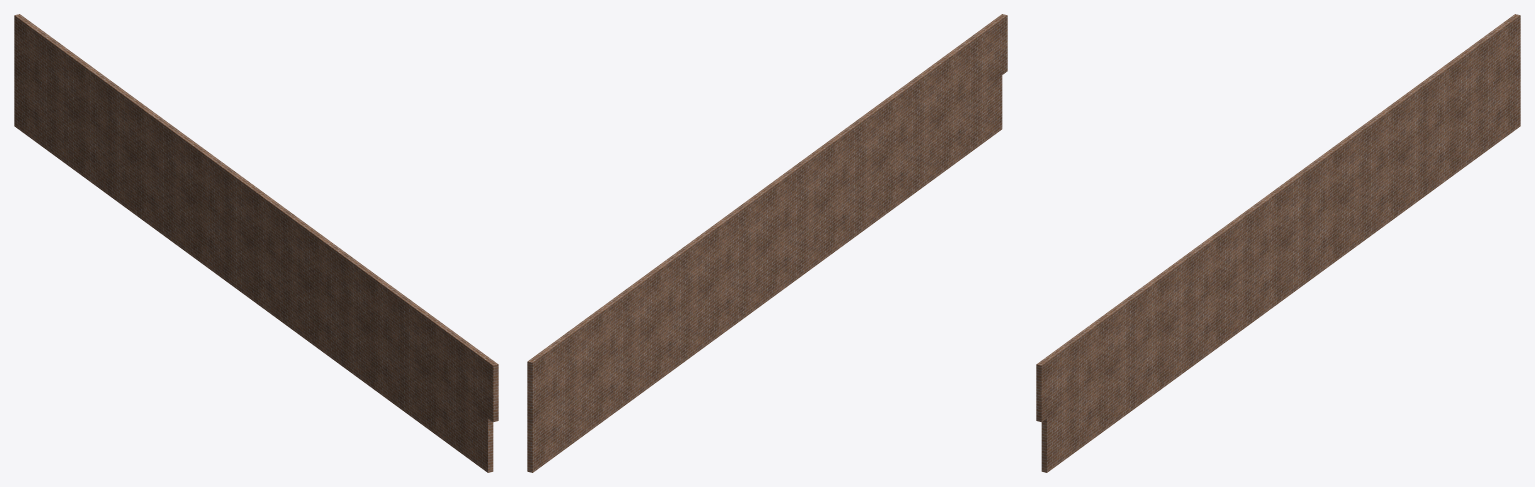
Rendered from Joglo_part_211.fbx.
3 renders of one model, left to right at view 1: azimuth 30°, elevation 25°; view 2: azimuth 150°, elevation 25°; view 3: azimuth 330°, elevation 25°, orthographic.
Parts seen in each view (by area): view 1: Mesh284_Brick___Brown_0.001; view 2: Mesh284_Brick___Brown_0.001; view 3: Mesh284_Brick___Brown_0.001.
Boxes of the visible parts, x1,y1,x2,y2 form: Mesh284_Brick___Brown_0.001: (14, 14, 498, 472); Mesh284_Brick___Brown_0.001: (527, 14, 1007, 472); Mesh284_Brick___Brown_0.001: (1036, 14, 1520, 472).
Bounding box in the file's own units: 5.9 × 116 × 907.
